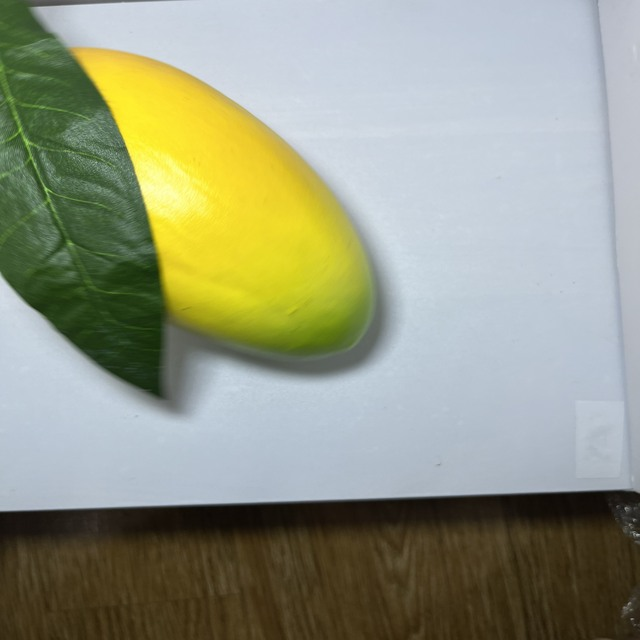Xoai: (3, 31, 387, 382)
